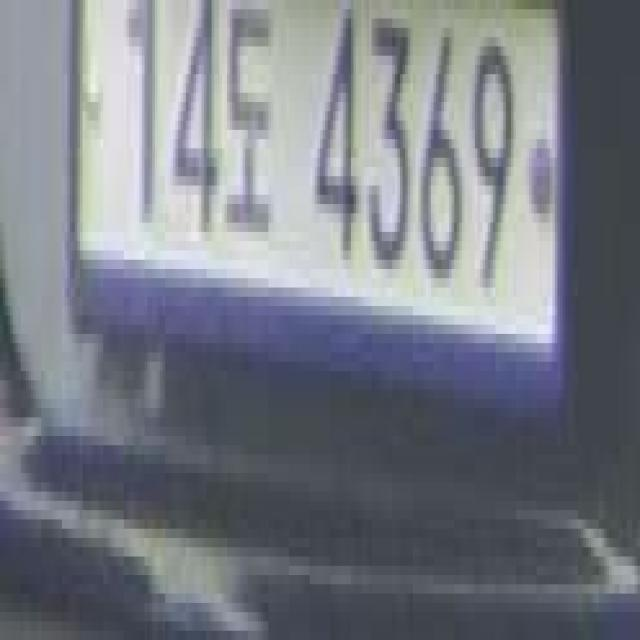1: (121, 9, 160, 241)
3: (366, 10, 411, 278)
4: (307, 9, 364, 260), (168, 9, 222, 250)
6: (418, 9, 465, 288)
9: (467, 9, 516, 297)
do: (222, 9, 273, 250)
license_plate: (62, 9, 565, 408)
